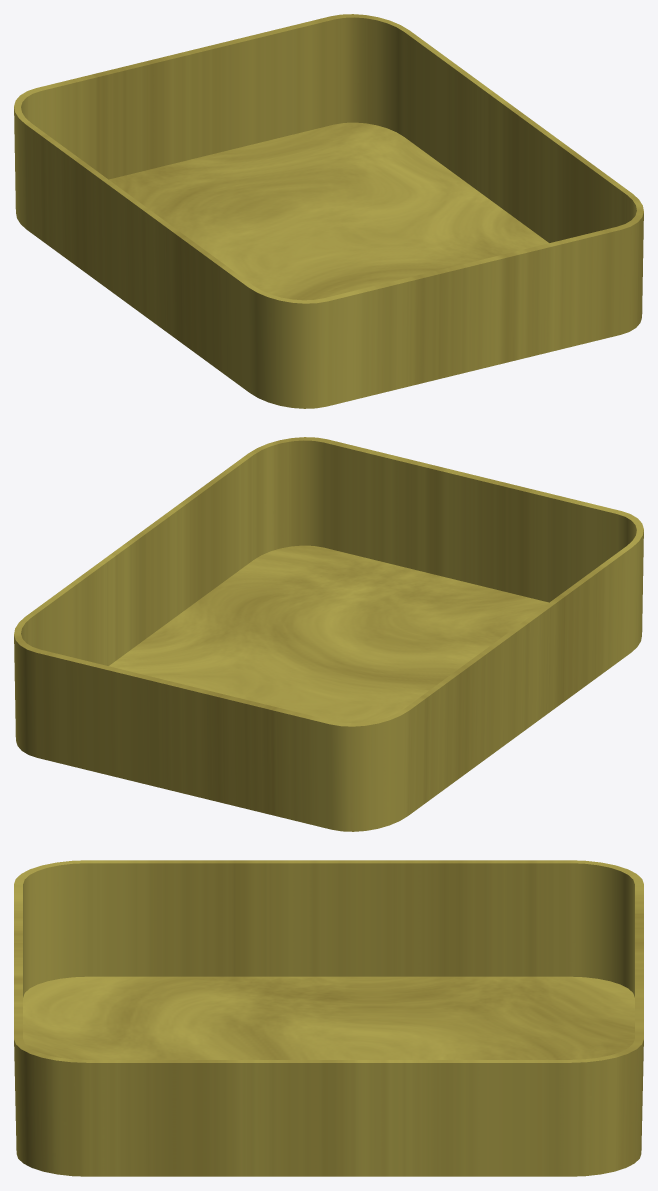
File: lunchbox.glb
The picture shows the model from 3 angles, top to bottom: view 1: azimuth 30°, elevation 25°; view 2: azimuth 150°, elevation 25°; view 3: azimuth 270°, elevation 25°; orthographic projection. The views are drawn at different scales.
Visible parts, largest first — view 1: 弁当箱＿木目; view 2: 弁当箱＿木目; view 3: 弁当箱＿木目.
Part boxes in pixels (x1,y1,x2,y2): 弁当箱＿木目: (14,14,643,408); 弁当箱＿木目: (14,437,643,831); 弁当箱＿木目: (14,860,643,1176).
Bounding box in the file's own units: 0.9515 × 0.2511 × 1.25.
1 material, 1 textured.
